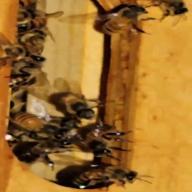Bee: (95, 2, 149, 40), (66, 165, 144, 187), (3, 24, 52, 58), (8, 112, 65, 136)
